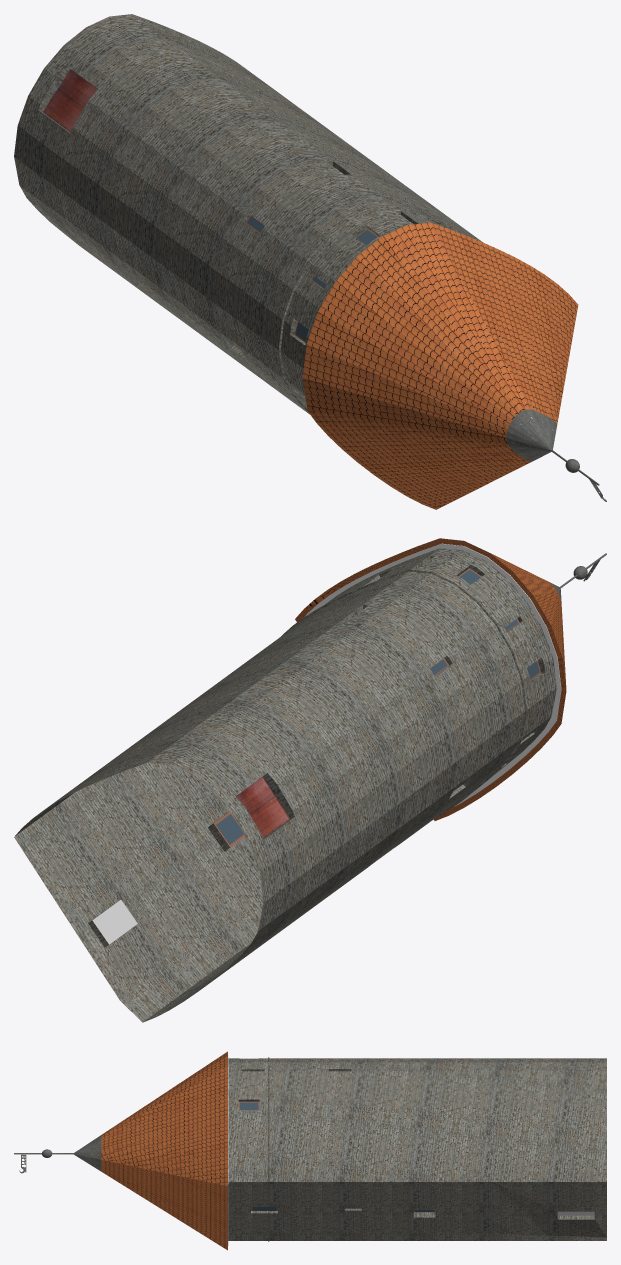
The model's file is Laboratooriumi_31.obj.
3 views of the same model, one above another, from view 1: azimuth 30°, elevation 25°; view 2: azimuth 150°, elevation 25°; view 3: azimuth 270°, elevation 25° (orthographic). The views are drawn at different scales.
Parts seen in each view (by area): view 1: Laboratooriumi_31; view 2: Laboratooriumi_31; view 3: Laboratooriumi_31.
Boxes of the visible parts, x1=… form: Laboratooriumi_31: x1=14, y1=14, x2=606, y2=509; Laboratooriumi_31: x1=14, y1=538, x2=606, y2=1022; Laboratooriumi_31: x1=14, y1=1051, x2=606, y2=1250.
Size of the model in its own units: 11.68 by 11.81 by 34.21.
